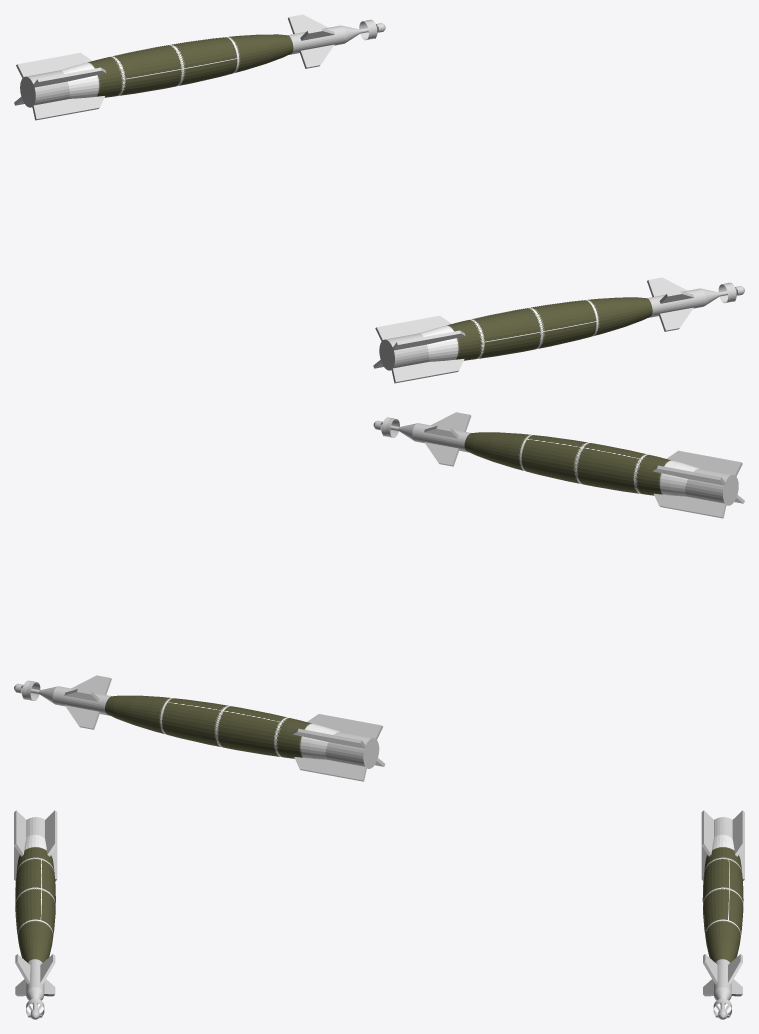
File: f35bgbu1023.glb
The picture shows the model from 3 angles, top to bottom: view 1: azimuth 30°, elevation 25°; view 2: azimuth 150°, elevation 25°; view 3: azimuth 270°, elevation 25°; orthographic projection. The views are drawn at different scales.
Parts seen in each view (by area): view 1: 球.003, 球.001; view 2: 球.001, 球.003; view 3: 球.003, 球.001.
Boxes of the visible parts, x1=… form: 球.003: x1=373, y1=277, x2=744, y2=383; 球.001: x1=14, y1=14, x2=385, y2=120; 球.001: x1=14, y1=675, x2=385, y2=781; 球.003: x1=373, y1=412, x2=744, y2=518; 球.003: x1=14, y1=810, x2=57, y2=1019; 球.001: x1=701, y1=810, x2=744, y2=1019.
Bounding box in the file's own units: 4.25 × 0.6398 × 7.8.
1 material, 1 textured.
